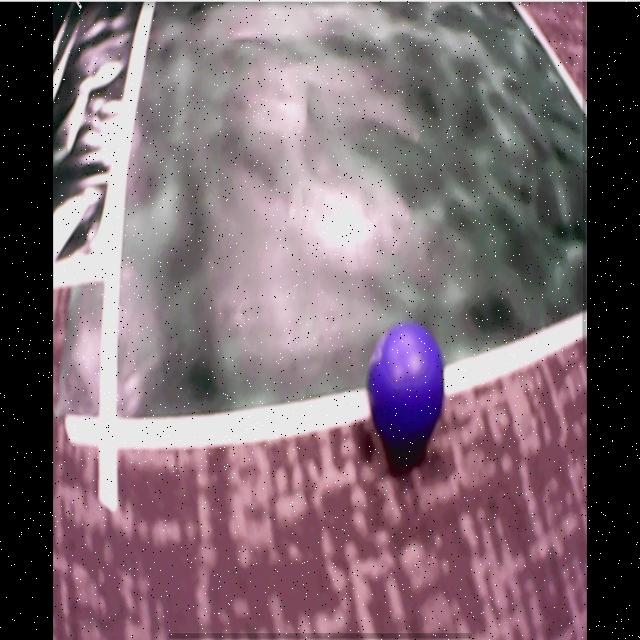ball: (368, 322, 445, 441)
